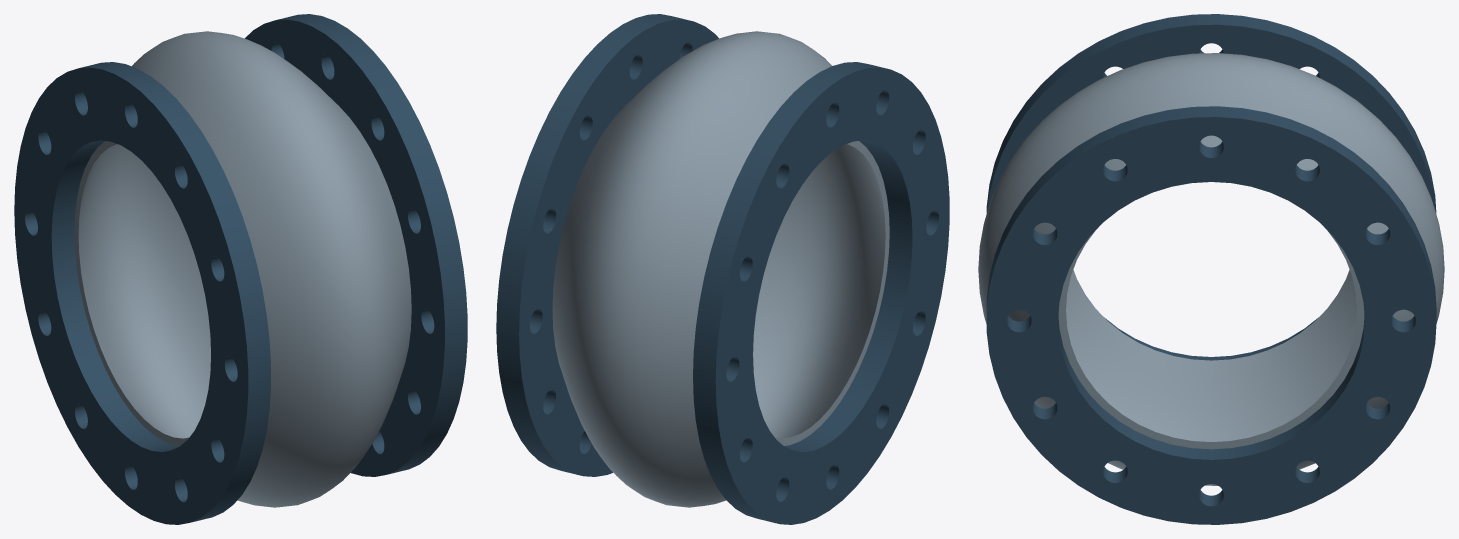
The picture shows the model from 3 angles, left to right: view 1: azimuth 30°, elevation 25°; view 2: azimuth 150°, elevation 25°; view 3: azimuth 270°, elevation 25°; orthographic projection. The views are drawn at different scales.
Visible parts, largest first — view 1: rebro_vstavka_rezina, homut_flanec_1, homut_flanec_2; view 2: rebro_vstavka_rezina, homut_flanec_1, homut_flanec_2; view 3: homut_flanec_2, rebro_vstavka_rezina, homut_flanec_1.
Part boxes in pixels (x1,y1,x2,y2): rebro_vstavka_rezina: (74,31,411,507); homut_flanec_1: (14,62,270,524); homut_flanec_2: (245,14,467,476); rebro_vstavka_rezina: (552,31,889,507); homut_flanec_1: (693,62,949,524); homut_flanec_2: (496,14,718,476); homut_flanec_2: (986,106,1436,524); rebro_vstavka_rezina: (978,53,1444,485); homut_flanec_1: (986,14,1436,360).
Bounding box in the file's own units: 255 × 487 × 488.
